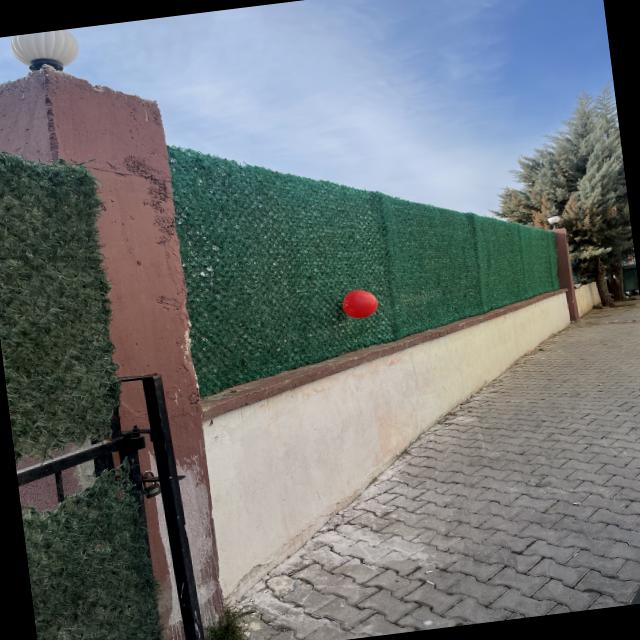balloon: (342, 290, 377, 318)
